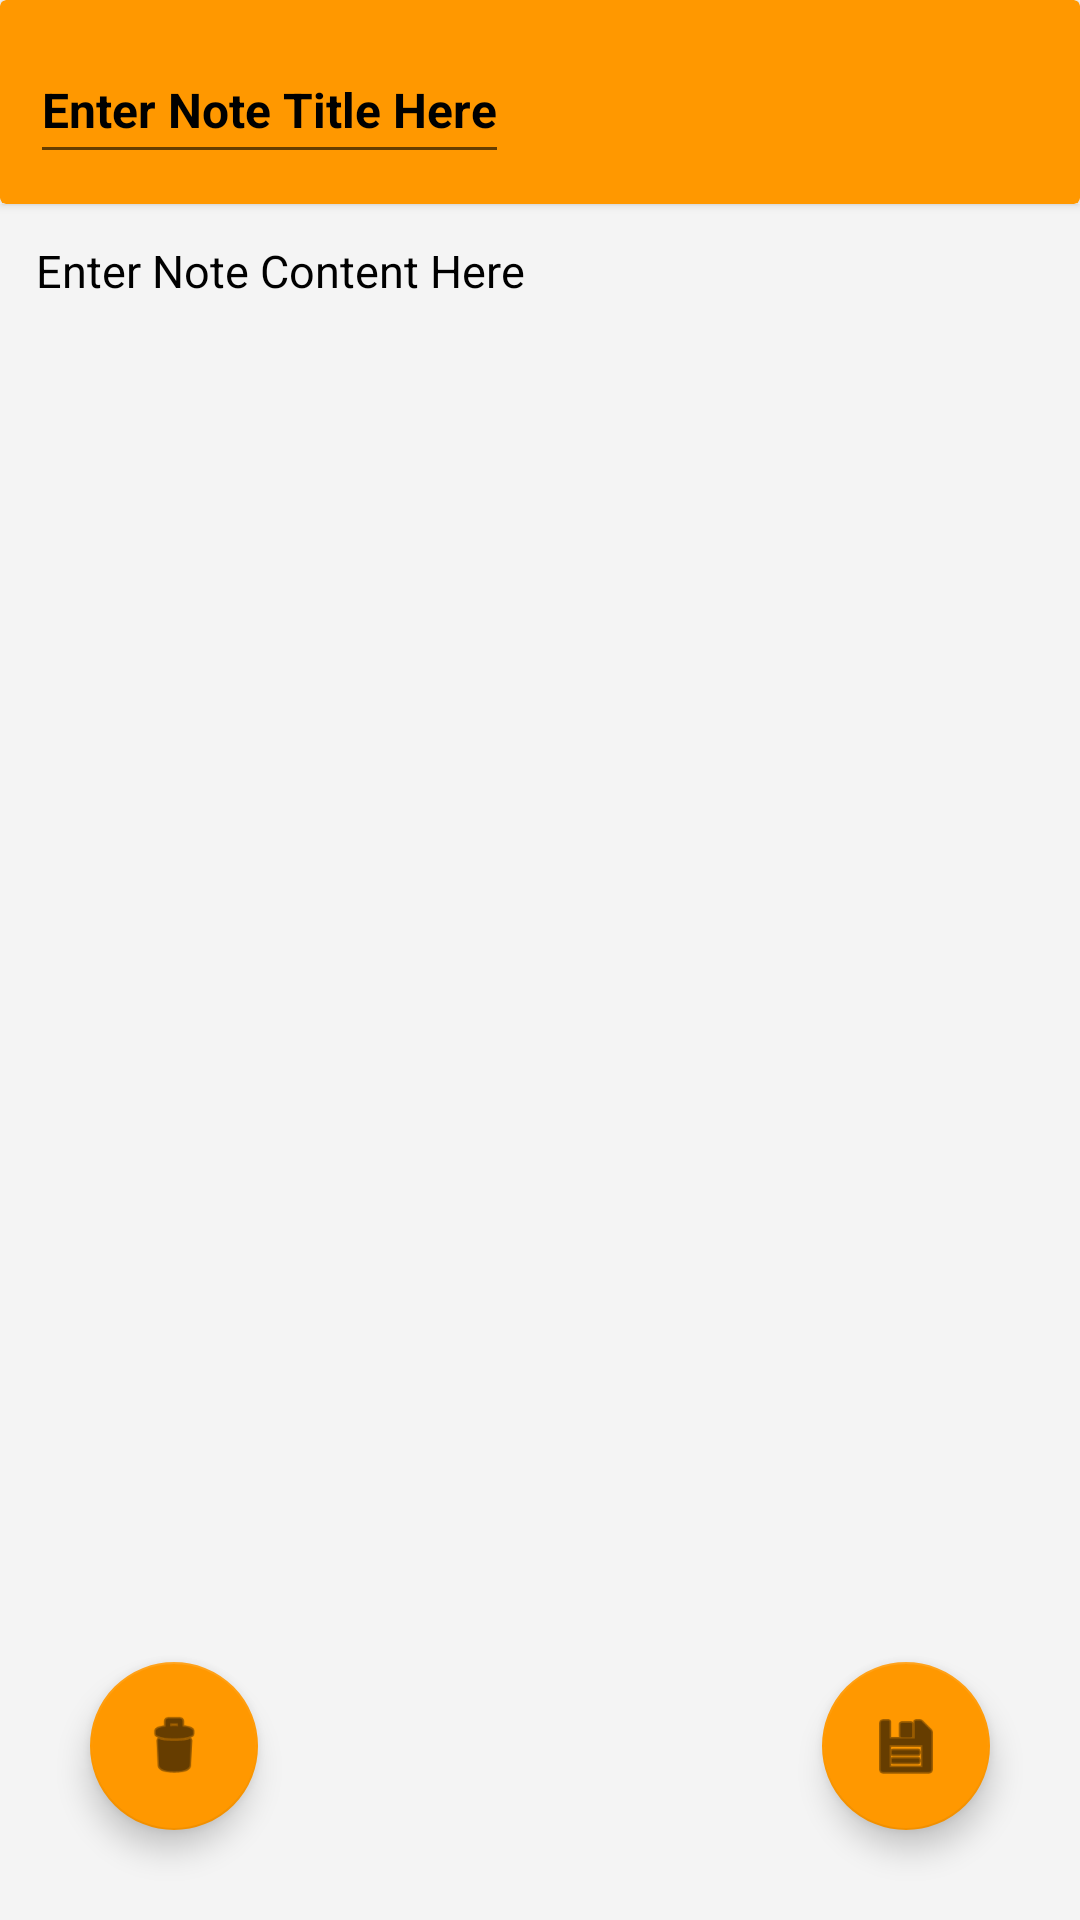

Where to tap for icons on this 1080 × 1920 app screen, as (x,y):
delete: (174,1746)
save: (906,1746)
